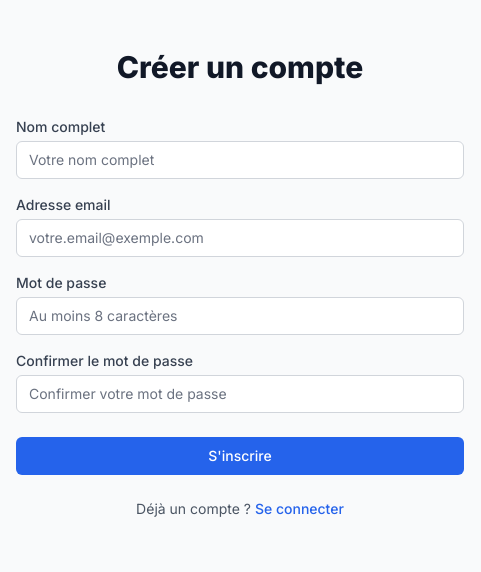
FormulaireInscription › Soumission du formulaire et requêtes réseau › affiche une erreur en cas d'échec de l'API
The width and height of the screenshot is (481, 572).
In the field labelled "Nom complet": {"x": 240, "y": 160} 16,141 -> 464,179, type "Jean Dupont"
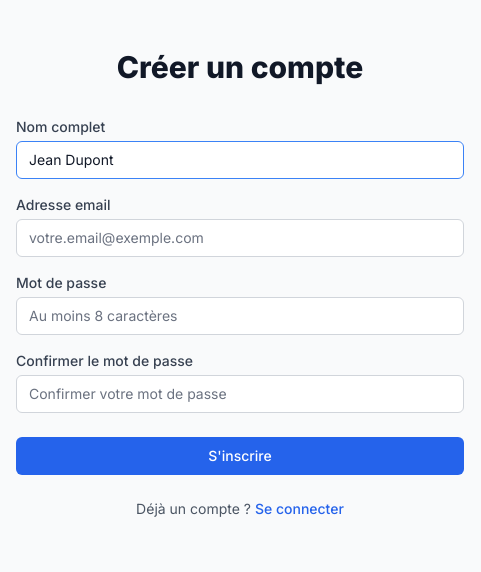
In the field labelled "Adresse email": {"x": 240, "y": 238} 16,219 -> 464,257, type "jean.dupont@exemple.com"
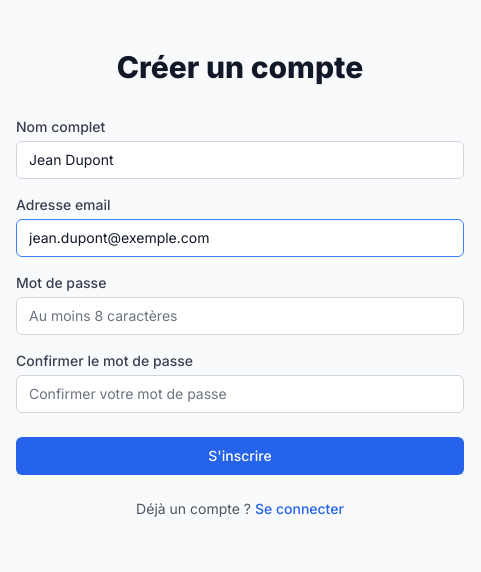
In the password field labelled "Mot de passe": {"x": 240, "y": 316} 16,297 -> 464,335, type "motdepasse123"
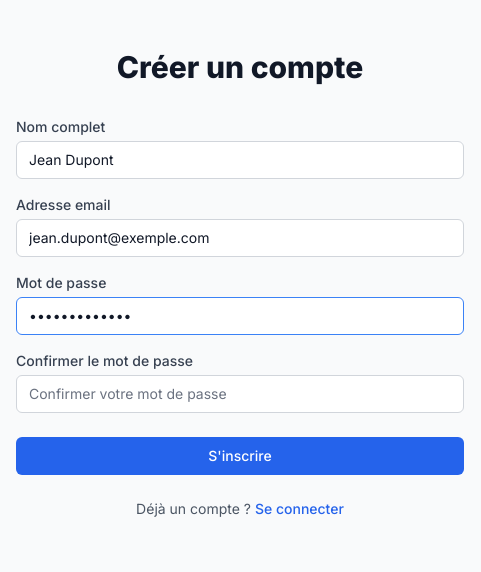
In the password field labelled "Confirmer le mot de passe": {"x": 240, "y": 394} 16,375 -> 464,413, type "motdepasse123"
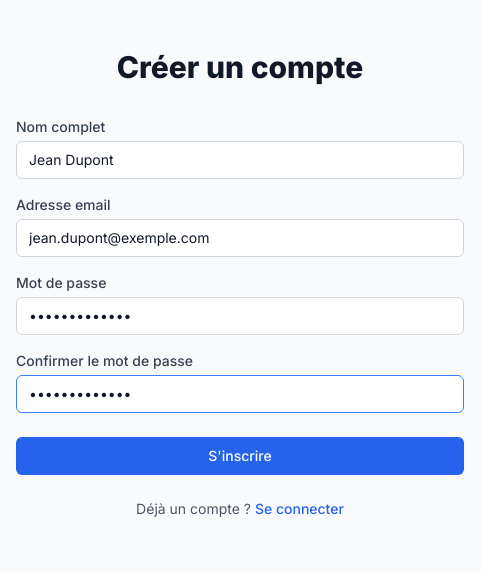
Click the button "S'inscrire": {"x": 240, "y": 456} 16,437 -> 464,475
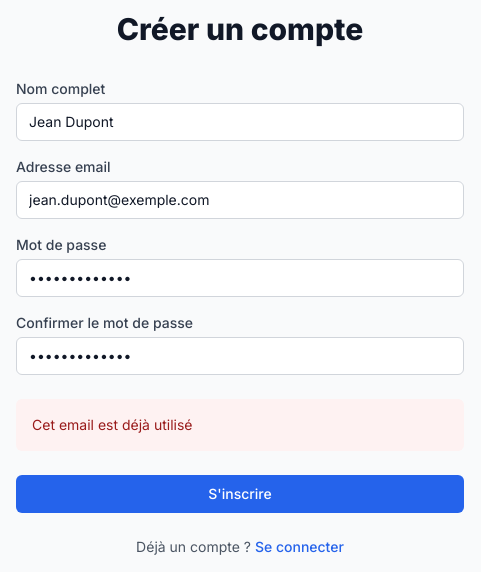
Result: the text "Cet email est déjà utilisé" is shown at 32,416 -> 192,433
